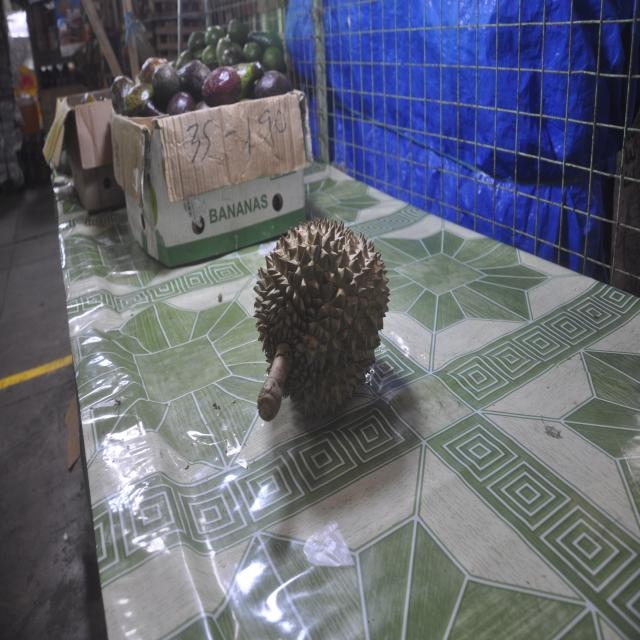mature: (255, 219, 389, 421)
